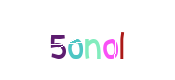5: (18, 0, 98, 80)
L: (81, 0, 161, 80)
N: (47, 0, 127, 80)
O: (42, 0, 122, 80), (70, 0, 150, 80)
